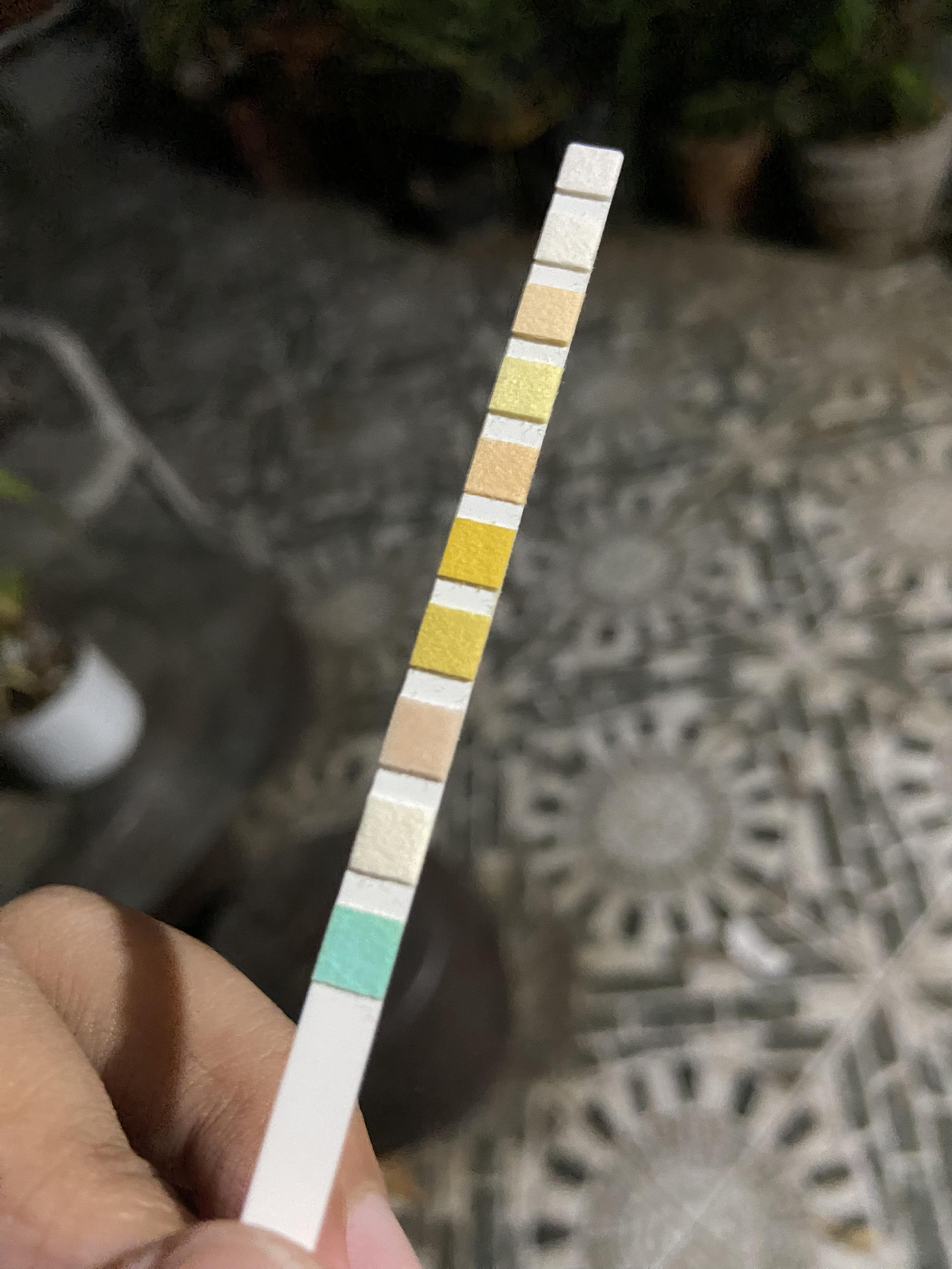Bilirubin: (365, 811, 420, 869)
Blood: (452, 530, 504, 577)
Glucose: (330, 919, 389, 982)
Ketone: (394, 710, 450, 762)
Leukocytes: (567, 152, 614, 190)
Nitrite: (545, 223, 595, 258)
Protein: (501, 366, 551, 411)
SpGravity: (423, 619, 480, 666)
Urobilinogen: (524, 294, 572, 334)
pH: (477, 447, 529, 493)
strip: (244, 145, 623, 1232)
